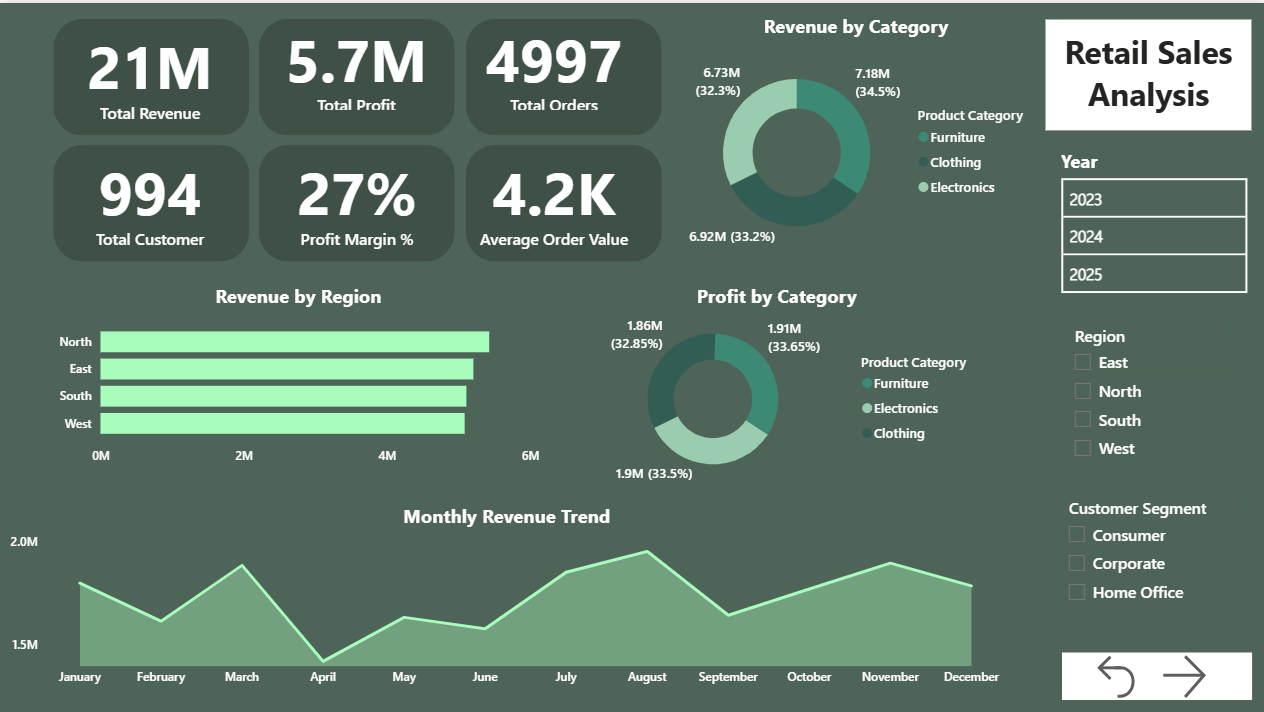

The dashboard page shown, as its layout file describes it:
{"tool":"powerbi","page":{"name":"Executive  Overview","canvas":[1280,720],"ordinal":0},"visuals":[{"type":"shape","box":[1056,0,224,720],"z":0,"group":"g1"},{"type":"shape","box":[48,10.3,208,128],"z":0,"group":"g2"},{"type":"shape","box":[48,138.3,208,128],"z":1000,"group":"g2"},{"type":"advancedSlicerVisual","fields":{"Values":["cleaned_retail_sales.OrderMonth.Variation.Date Hierarchy.Year"]},"box":[1067,146.8,199,152.3],"z":1000,"group":"g1"},{"type":"shape","box":[256,138.3,208,128],"z":2000,"group":"g2"},{"type":"slicer","fields":{"Values":["Dim_Geography.Region"]},"box":[1072,320,176,160],"z":2000,"group":"g1"},{"type":"shape","box":[464,138.3,208,128],"z":3000,"group":"g2"},{"type":"slicer","fields":{"Values":["Dim_Customer.Customer_Segment"]},"box":[1067,494,199,122.1],"z":3000,"group":"g1"},{"type":"shape","box":[256,10.3,208,128],"z":4000,"group":"g2"},{"type":"textbox","box":[1056,16,208,112],"z":4000,"group":"g1"},{"type":"shape","box":[464,10.3,208,128],"z":5000,"group":"g2"},{"type":"shape","box":[1072,656,192,48],"z":5000,"group":"g1"},{"type":"areaChart","title":"Monthly Revenue Trend","fields":{"Category":["cleaned_retail_sales.OrderMonth.Variation.Date Hierarchy.Month"],"Y":["Dim_Customer.Total Revenue"]},"box":[0,496,1024,208],"z":6000},{"type":"actionButton","box":[1168.5,653.2,75.5,54.9],"z":6000,"group":"g1"},{"type":"clusteredBarChart","title":"Revenue by Region","fields":{"Category":["Dim_Geography.Region"],"Y":["Dim_Customer.Total Revenue"]},"box":[48,272,496,208],"z":7000},{"type":"actionButton","box":[1099.9,653.2,68.6,54.9],"z":7000,"group":"g1"},{"type":"donutChart","title":"Revenue by Category","fields":{"Category":["Dim_Product.Product_Category"],"Y":["Sum(cleaned_retail_sales.Revenue)"]},"box":[672,0,384,272],"z":8000},{"type":"donutChart","title":"Profit by Category","fields":{"Category":["Dim_Product.Product_Category"],"Y":["Sum(cleaned_retail_sales.Profit)"]},"box":[560,272,448,224],"z":9000},{"type":"group","id":"g1","title":"Fields panel","box":[1056,0,224,720],"z":10000},{"type":"group","id":"g2","title":"Kpi Card","box":[48,10.3,624,256],"z":11000},{"type":"card","fields":{"Values":["Dim_Customer.Total Revenue"]},"box":[64,0,176,144],"z":11500},{"type":"card","fields":{"Values":["Dim_Customer.Total Profit"]},"box":[256,0,208,128],"z":12000},{"type":"card","fields":{"Values":["Dim_Customer.Total Orders"]},"box":[464,0,192,128],"z":12500},{"type":"card","fields":{"Values":["Dim_Customer.Total Customer"]},"box":[64,128,176,144],"z":13500},{"type":"card","fields":{"Values":["Dim_Customer.Profit Margin %"]},"box":[272,128,176,144],"z":14000},{"type":"card","fields":{"Values":["Dim_Customer.Average Order Value"]},"box":[464,128,192,144],"z":14500}]}

Visuals, with their boxes in screenshot pixels (x1, y1, x2, y2), scaled from the page's 1280x720 canvas onto the 1264x712 screenshot:
shape: x1=1043 y1=0 x2=1263 y2=711
shape: x1=47 y1=10 x2=253 y2=137
shape: x1=47 y1=137 x2=253 y2=263
advancedSlicerVisual - cleaned_retail_sales.OrderMonth.Variation.Date Hierarchy.Year: x1=1054 y1=145 x2=1250 y2=296
shape: x1=253 y1=137 x2=458 y2=263
slicer - Dim_Geography.Region: x1=1059 y1=316 x2=1232 y2=475
shape: x1=458 y1=137 x2=664 y2=263
slicer - Dim_Customer.Customer_Segment: x1=1054 y1=489 x2=1250 y2=609
shape: x1=253 y1=10 x2=458 y2=137
textbox: x1=1043 y1=16 x2=1248 y2=127
shape: x1=458 y1=10 x2=664 y2=137
shape: x1=1059 y1=649 x2=1248 y2=696
"Monthly Revenue Trend" areaChart: x1=0 y1=490 x2=1011 y2=696
actionButton: x1=1154 y1=646 x2=1228 y2=700
"Revenue by Region" clusteredBarChart: x1=47 y1=269 x2=537 y2=475
actionButton: x1=1086 y1=646 x2=1154 y2=700
"Revenue by Category" donutChart: x1=664 y1=0 x2=1043 y2=269
"Profit by Category" donutChart: x1=553 y1=269 x2=995 y2=490
"Fields panel" group: x1=1043 y1=0 x2=1263 y2=711
"Kpi Card" group: x1=47 y1=10 x2=664 y2=263
card - Dim_Customer.Total Revenue: x1=63 y1=0 x2=237 y2=142
card - Dim_Customer.Total Profit: x1=253 y1=0 x2=458 y2=127
card - Dim_Customer.Total Orders: x1=458 y1=0 x2=648 y2=127
card - Dim_Customer.Total Customer: x1=63 y1=127 x2=237 y2=269
card - Dim_Customer.Profit Margin %: x1=269 y1=127 x2=442 y2=269
card - Dim_Customer.Average Order Value: x1=458 y1=127 x2=648 y2=269
